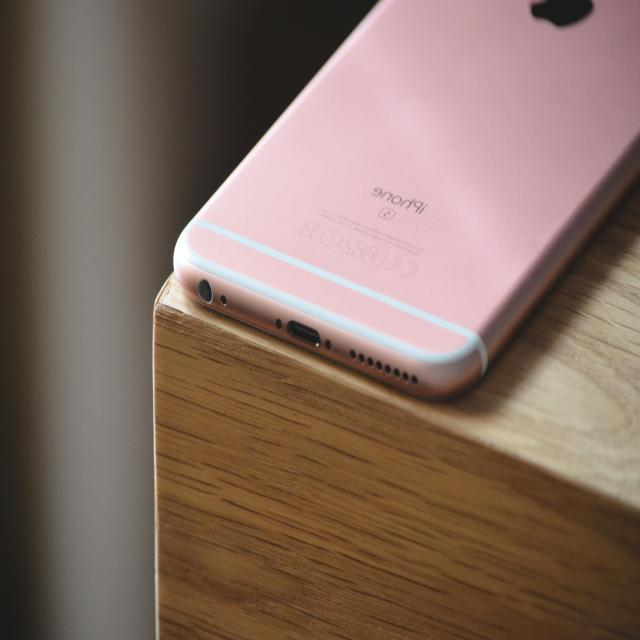Mobile: (140, 1, 640, 408)
